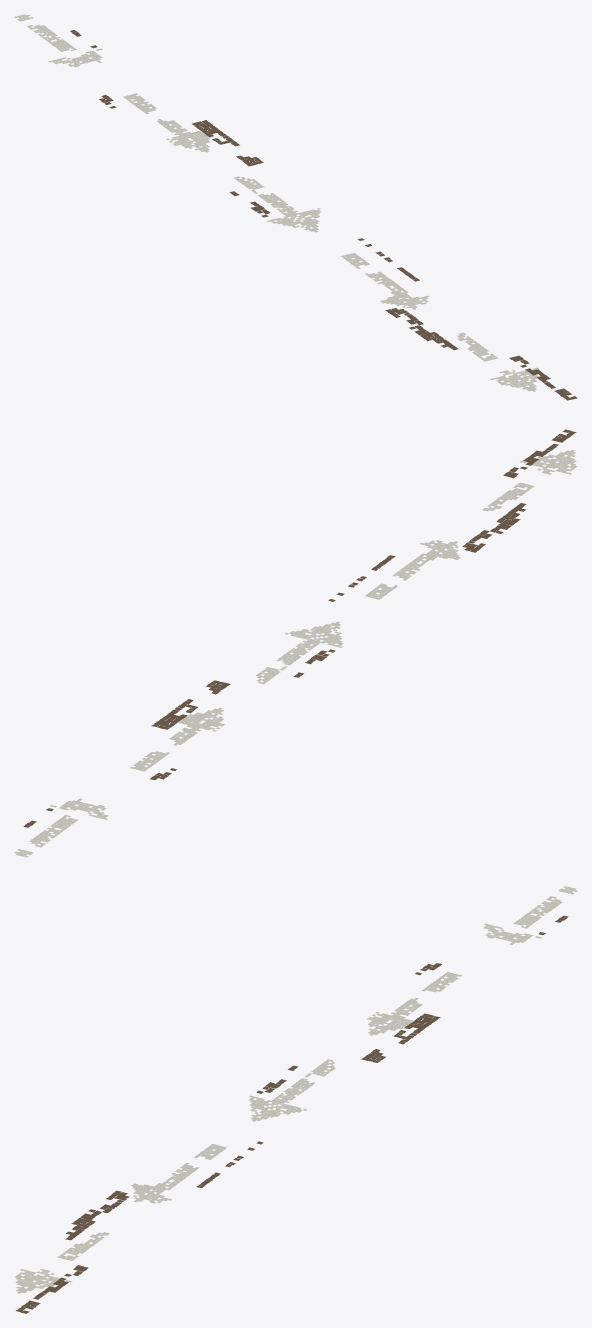
Rendered from sign-logging-arrows.glb.
The picture shows the model from 3 angles, top to bottom: view 1: azimuth 30°, elevation 25°; view 2: azimuth 150°, elevation 25°; view 3: azimuth 330°, elevation 25°; orthographic projection. The views are drawn at different scales.
Parts seen in each view (by area): view 1: sign-logging-arrows; view 2: sign-logging-arrows; view 3: sign-logging-arrows.
Part boxes in pixels (x1,y1,x2,y2): sign-logging-arrows: (14,14,577,400); sign-logging-arrows: (14,429,577,857); sign-logging-arrows: (14,886,577,1313).
Size of the model in its own units: 2.43 by 0.004 by 36.61.
